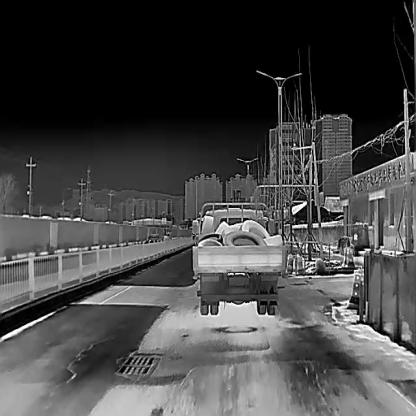car: (147, 234, 161, 248)
truck: (191, 200, 283, 314)
